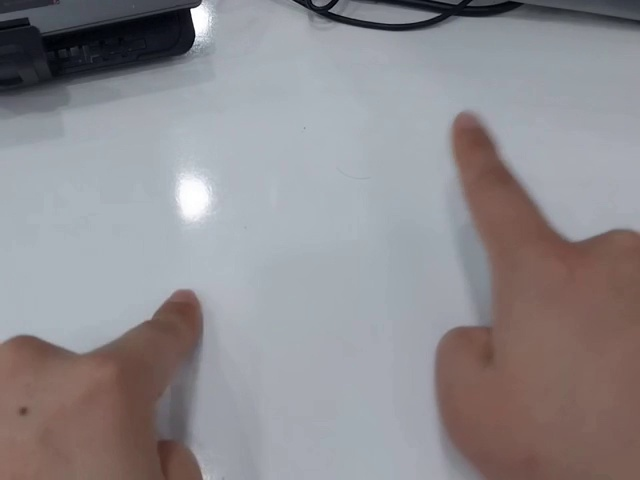fingers: (151, 287, 204, 335), (450, 109, 498, 157)
